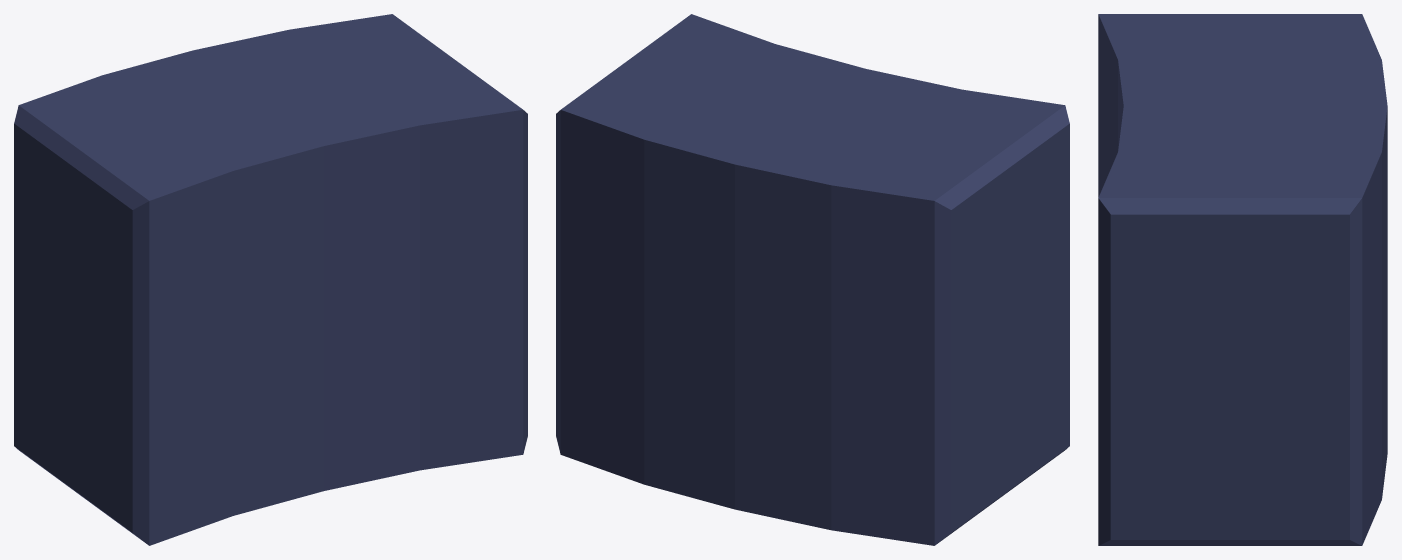
Rendered from BaseTableauDeBord.fbx.
The picture shows the model from 3 angles, left to right: view 1: azimuth 30°, elevation 25°; view 2: azimuth 150°, elevation 25°; view 3: azimuth 270°, elevation 25°; orthographic projection.
Parts seen in each view (by area): view 1: Cube.001; view 2: Cube.001; view 3: Cube.001.
Part boxes in pixels (bbox=[...]): Cube.001: bbox=[14, 14, 527, 545]; Cube.001: bbox=[556, 14, 1069, 545]; Cube.001: bbox=[1098, 14, 1387, 545].
Bounding box in the file's own units: 85.96 × 71.7 × 54.01.
